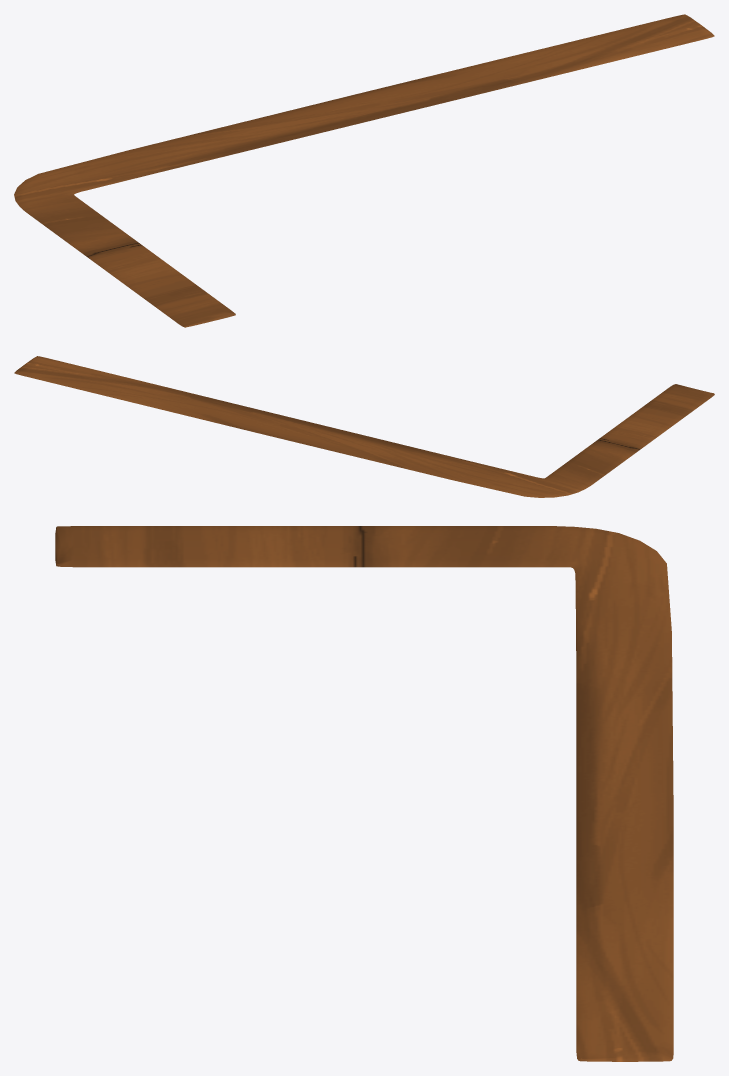
Rendered from Gravel_Path.FBX.
3 views of the same model, one above another, from view 1: azimuth 30°, elevation 25°; view 2: azimuth 150°, elevation 25°; view 3: azimuth 270°, elevation 25° (orthographic). The views are drawn at different scales.
Parts seen in each view (by area): view 1: Box001; view 2: Box001; view 3: Box001.
Boxes of the visible parts, bbox=[...] form: Box001: bbox=[14, 14, 714, 327]; Box001: bbox=[14, 356, 714, 497]; Box001: bbox=[55, 526, 673, 1061].
Bounding box in the file's own units: 144 × 0.2228 × 70.36.
